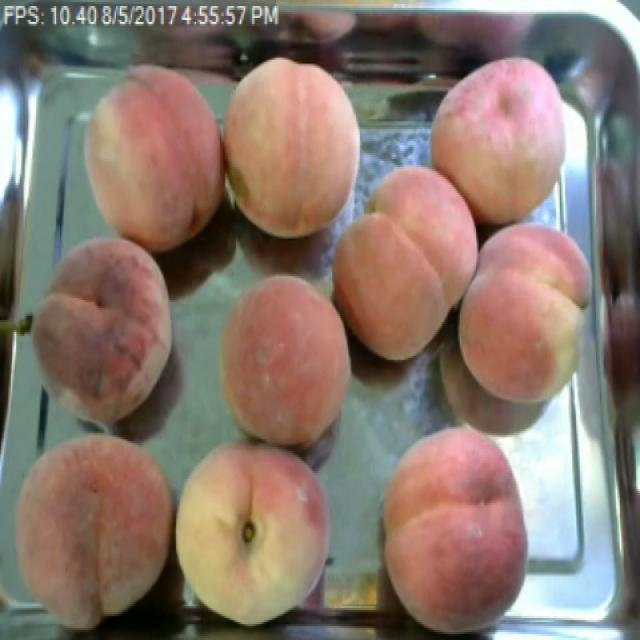Fruit: (1, 413, 180, 640), (11, 223, 190, 445), (320, 151, 492, 374), (369, 419, 542, 640), (172, 425, 344, 638), (440, 209, 609, 415), (416, 40, 585, 238), (202, 268, 366, 463), (222, 46, 374, 250), (75, 58, 228, 260)
